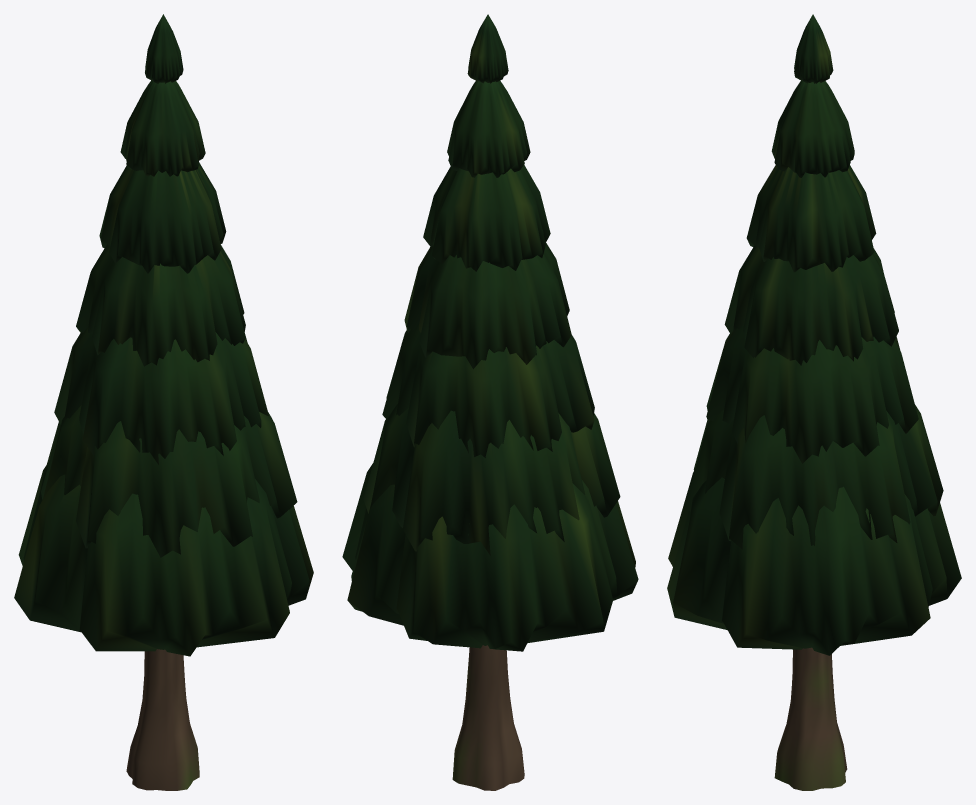
File: Pine.glb
3 renders of one model, left to right at view 1: azimuth 30°, elevation 25°; view 2: azimuth 150°, elevation 25°; view 3: azimuth 270°, elevation 25°, orthographic.
Parts seen in each view (by area): view 1: Needles, Trunk; view 2: Needles, Trunk; view 3: Needles, Trunk.
Part boxes in pixels (bbox=[...]): Needles: bbox=[14, 14, 313, 656]; Trunk: bbox=[126, 649, 199, 790]; Needles: bbox=[342, 14, 638, 651]; Trunk: bbox=[452, 645, 524, 790]; Needles: bbox=[667, 14, 961, 655]; Trunk: bbox=[774, 647, 847, 790].
Size of the model in its own units: 3.22 by 8.96 by 3.14.
